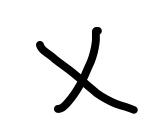mult: (36, 27, 137, 116)
